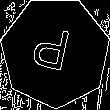P_S: (33, 23, 78, 81)
